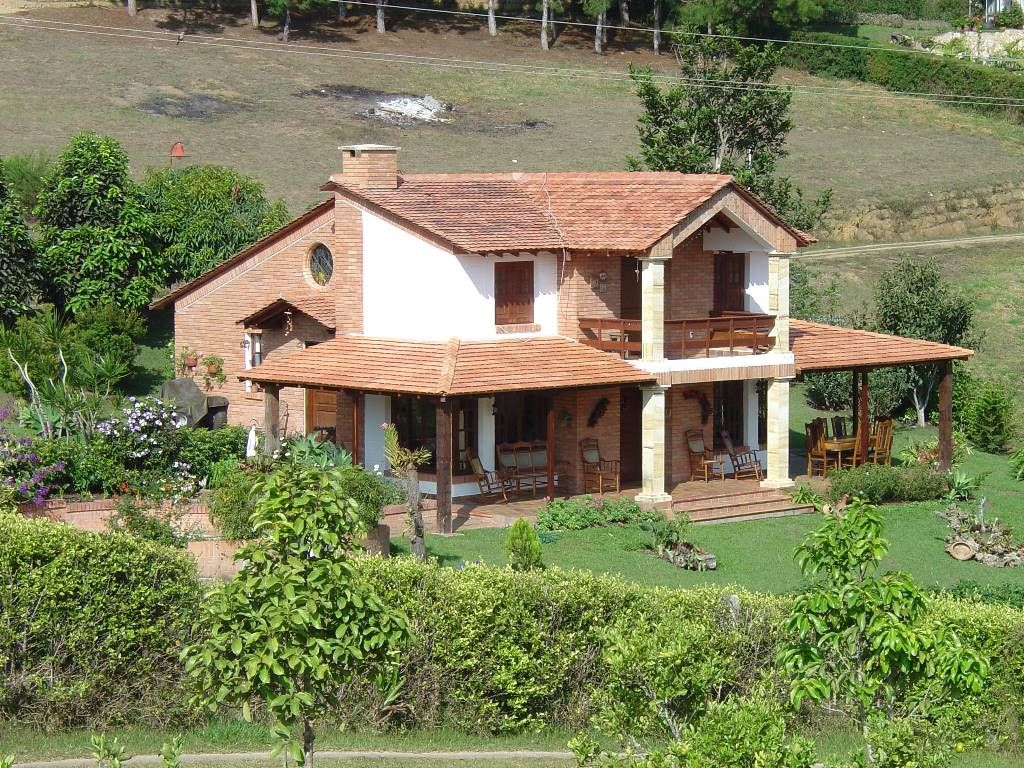House: (134, 107, 969, 529)
